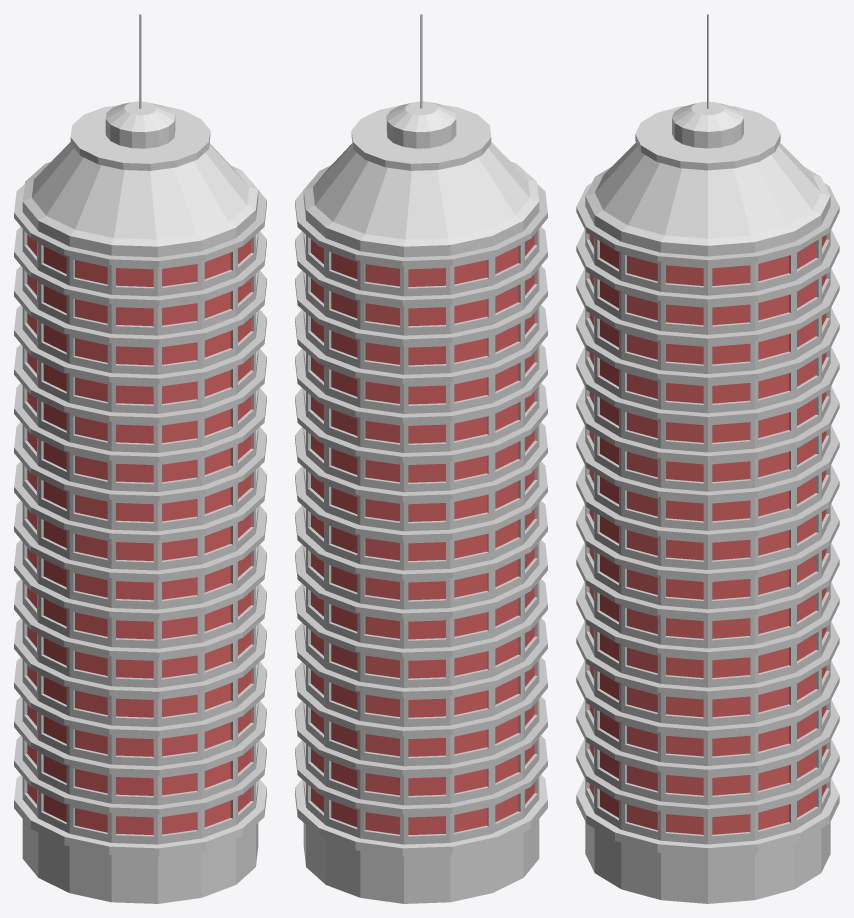
The model's file is building02_tall.fbx.
The picture shows the model from 3 angles, left to right: view 1: azimuth 30°, elevation 25°; view 2: azimuth 150°, elevation 25°; view 3: azimuth 270°, elevation 25°; orthographic projection.
Visible parts, largest first — view 1: Circle.004, Circle.005, Circle.003; view 2: Circle.004, Circle.005, Circle.003; view 3: Circle.004, Circle.005, Circle.003.
Boxes of the visible parts, bbox=[...] form: Circle.004: bbox=[14, 180, 266, 844]; Circle.005: bbox=[22, 14, 258, 257]; Circle.003: bbox=[14, 775, 266, 903]; Circle.004: bbox=[295, 180, 547, 844]; Circle.005: bbox=[303, 14, 539, 257]; Circle.003: bbox=[295, 775, 547, 903]; Circle.004: bbox=[576, 183, 839, 844]; Circle.005: bbox=[585, 14, 830, 256]; Circle.003: bbox=[576, 778, 839, 903].
Size of the model in its own units: 1074 by 3927 by 1116.
